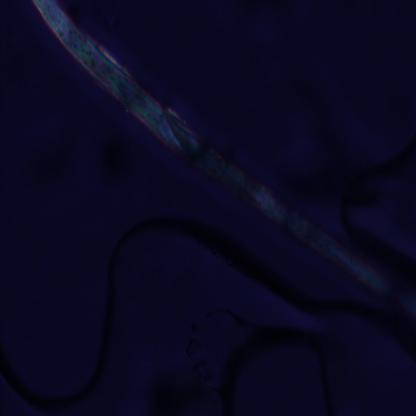Microfibre: (32, 0, 416, 316)
